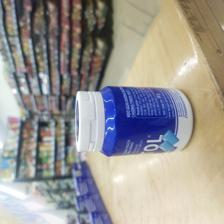Xylitol_blue: (71, 84, 194, 157)
